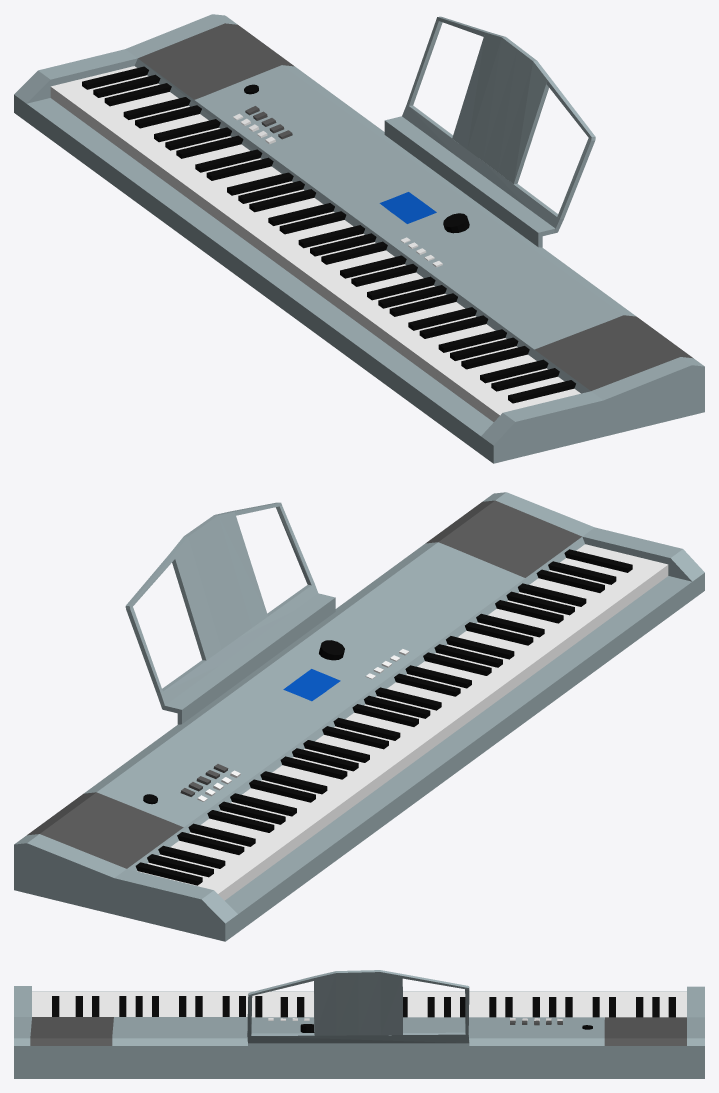
The model's file is Piano.obj.
3 renders of one model, top to bottom at view 1: azimuth 30°, elevation 25°; view 2: azimuth 150°, elevation 25°; view 3: azimuth 270°, elevation 25°, orthographic. The views are drawn at different scales.
Parts seen in each view (by area): view 1: group2006127357, group1212375346, group177324776, group581341217, group456113812, group1401885315, group220930692, group1698405163, group298275291; view 2: group2006127357, group1212375346, group177324776, group581341217, group1401885315, group456113812, group220930692, group1698405163, group298275291; view 3: group2006127357, group1212375346, group177324776, group581341217, group1698405163, group456113812, group1401885315, group220930692, group1968741473, group1613345632, group1915210531.
Part boxes in pixels (<box>): group2006127357: <box>134,23,693,393</box>; group1212375346: <box>50,66,580,421</box>; group177324776: <box>14,95,704,463</box>; group581341217: <box>452,32,551,184</box>; group456113812: <box>481,357,704,445</box>; group1401885315: <box>14,14,237,103</box>; group220930692: <box>384,119,542,247</box>; group1698405163: <box>402,104,563,233</box>; group298275291: <box>389,116,555,235</box>; group2006127357: <box>27,500,584,871</box>; group1212375346: <box>137,544,668,900</box>; group177324776: <box>14,573,704,941</box>; group581341217: <box>170,511,267,660</box>; group1401885315: <box>14,834,237,923</box>; group456113812: <box>483,492,704,581</box>; group220930692: <box>177,596,335,724</box>; group1698405163: <box>156,583,317,708</box>; group298275291: <box>162,593,330,713</box>; group2006127357: <box>30,1017,686,1065</box>; group1212375346: <box>32,991,686,1017</box>; group177324776: <box>14,991,704,1078</box>; group581341217: <box>314,970,402,1035</box>; group1698405163: <box>247,1032,469,1043</box>; group456113812: <box>14,986,31,1078</box>; group1401885315: <box>687,986,704,1065</box>; group220930692: <box>248,1033,469,1045</box>; group1968741473: <box>248,976,313,996</box>; group1613345632: <box>402,974,469,989</box>; group1915210531: <box>465,989,469,1034</box>.
Bounding box in the file's own units: 1.23 × 0.7723 × 3.81.
